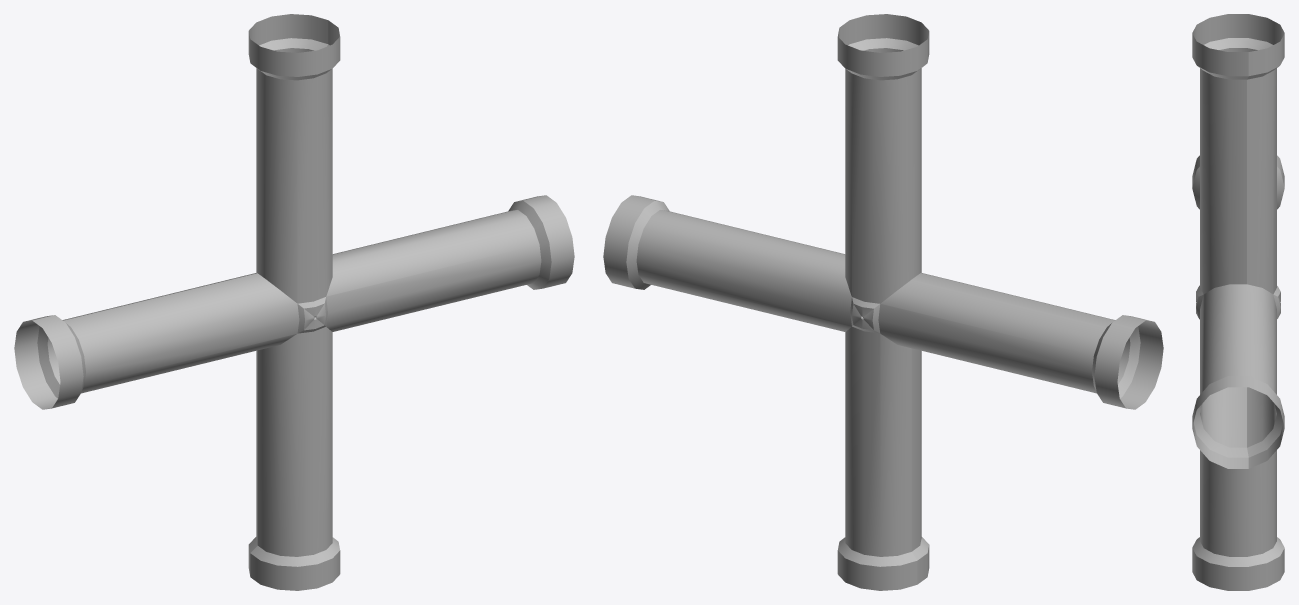
The model's file is KF_SM_SLong4way.fbx.
3 renders of one model, left to right at view 1: azimuth 30°, elevation 25°; view 2: azimuth 150°, elevation 25°; view 3: azimuth 270°, elevation 25°, orthographic.
Visible parts, largest first — view 1: KF_SM_SLong4way; view 2: KF_SM_SLong4way; view 3: KF_SM_SLong4way.
Part boxes in pixels (x1,y1,x2,y2): KF_SM_SLong4way: (14, 14, 574, 590); KF_SM_SLong4way: (603, 14, 1163, 590); KF_SM_SLong4way: (1192, 14, 1284, 590).
Bounding box in the file's own units: 1883 × 1883 × 293.
